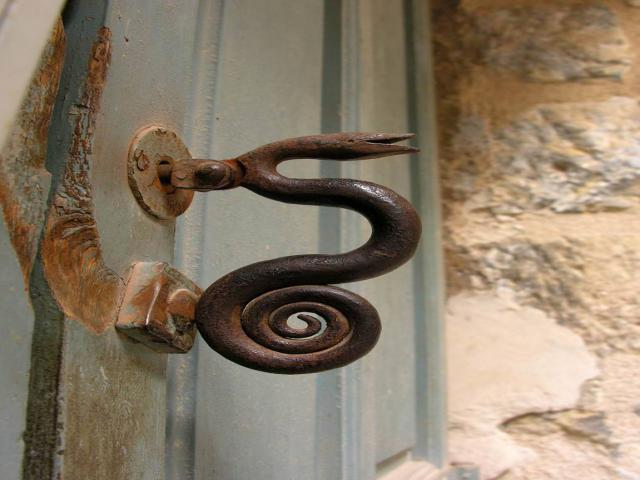Door-handle: (115, 122, 421, 376)
